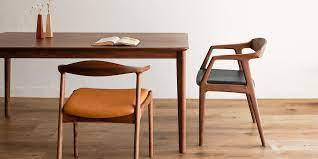chair: (52, 56, 270, 153)
